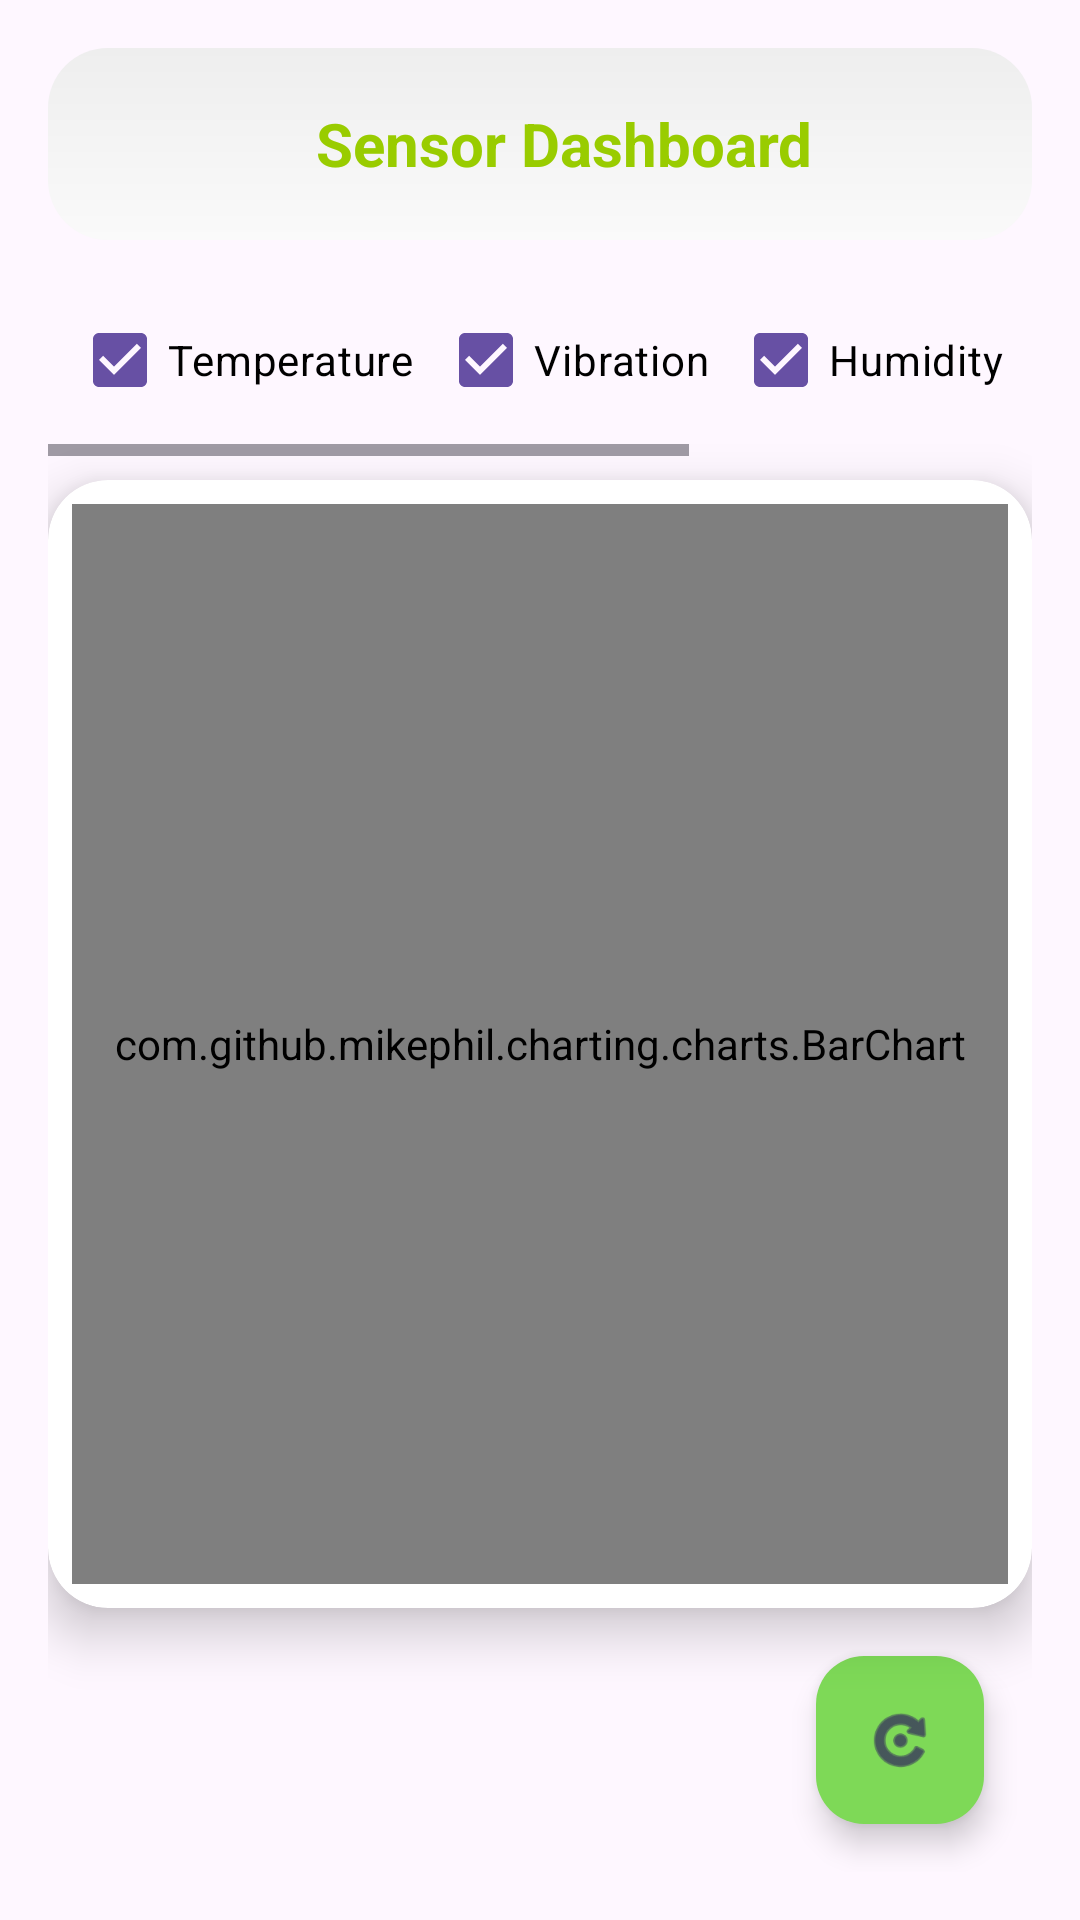

Icons on this 1080*1920 Android screen, each with the point to tap as point (x, y):
Refresh Chart: point (900, 1740)
